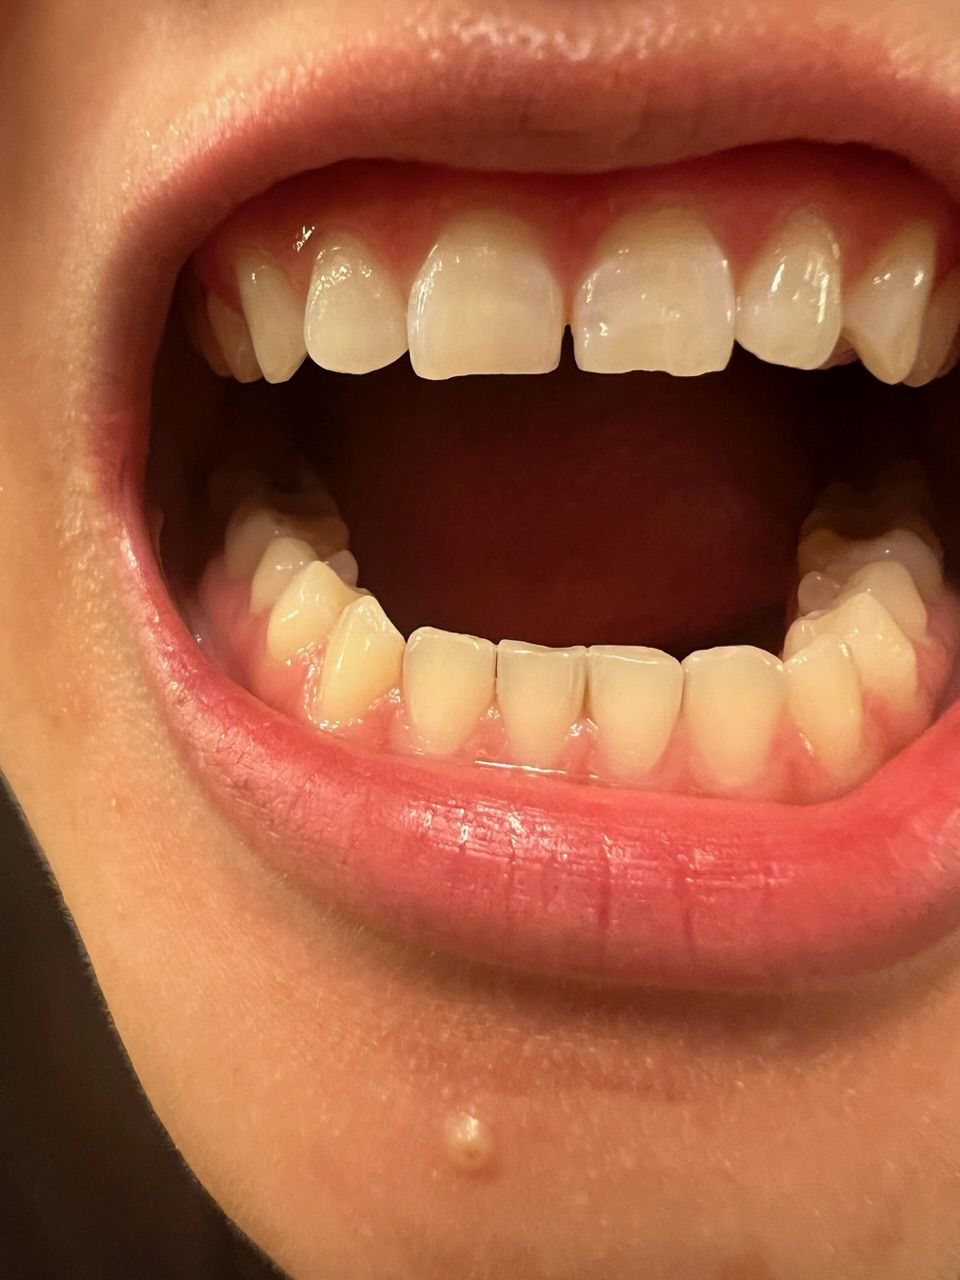teeth: (406, 217, 566, 378), (579, 207, 731, 364), (736, 210, 844, 368), (801, 490, 945, 593), (791, 588, 920, 692), (852, 220, 933, 384), (688, 644, 786, 778), (307, 233, 399, 371), (220, 487, 342, 573), (316, 594, 401, 717), (402, 629, 490, 748), (796, 555, 925, 636), (591, 644, 676, 765), (496, 646, 582, 760), (789, 634, 864, 758), (232, 258, 304, 376), (272, 572, 367, 649), (248, 543, 352, 609), (198, 293, 255, 381)
